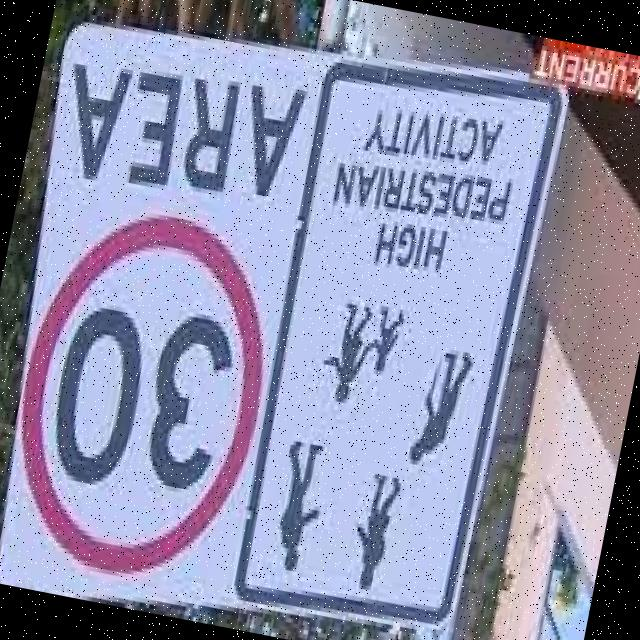speed_limit_30: (0, 194, 295, 600)
